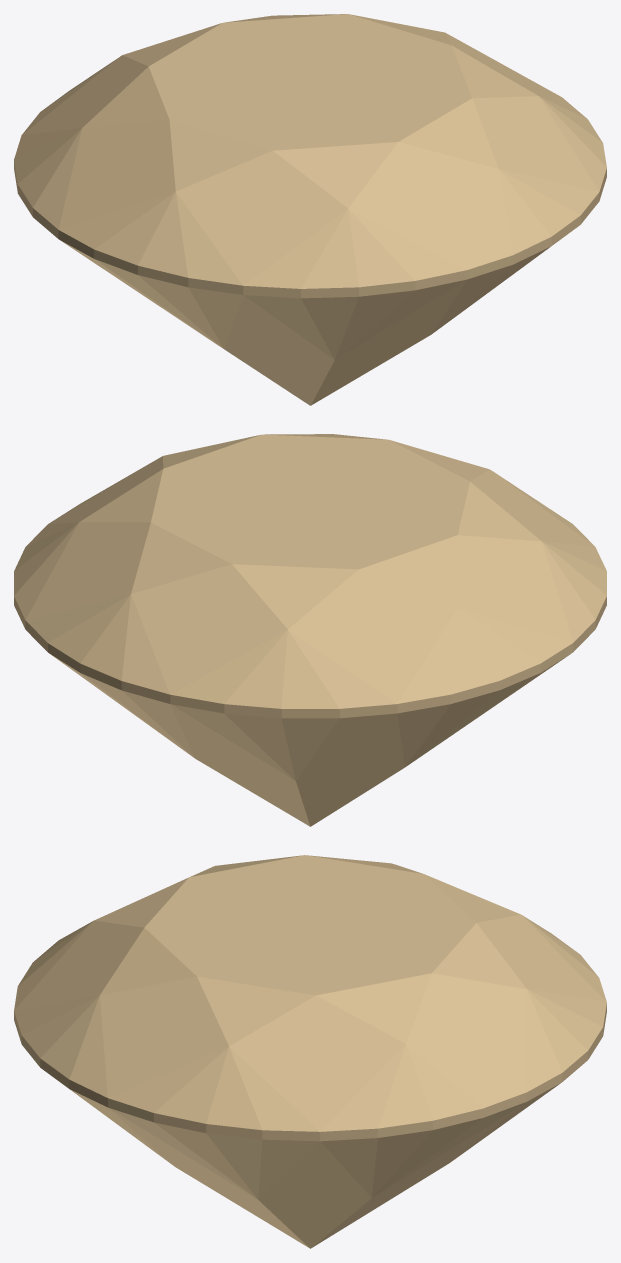
The model's file is stone-zircon.glb.
3 renders of one model, top to bottom at view 1: azimuth 30°, elevation 25°; view 2: azimuth 150°, elevation 25°; view 3: azimuth 270°, elevation 25°, orthographic.
Parts seen in each view (by area): view 1: Gemstone Zircon; view 2: Gemstone Zircon; view 3: Gemstone Zircon.
Part boxes in pixels (x1,y1,x2,y2): Gemstone Zircon: (14,14,606,405); Gemstone Zircon: (14,434,606,826); Gemstone Zircon: (14,855,606,1248).
Size of the model in its own units: 2 by 1.2 by 2.
